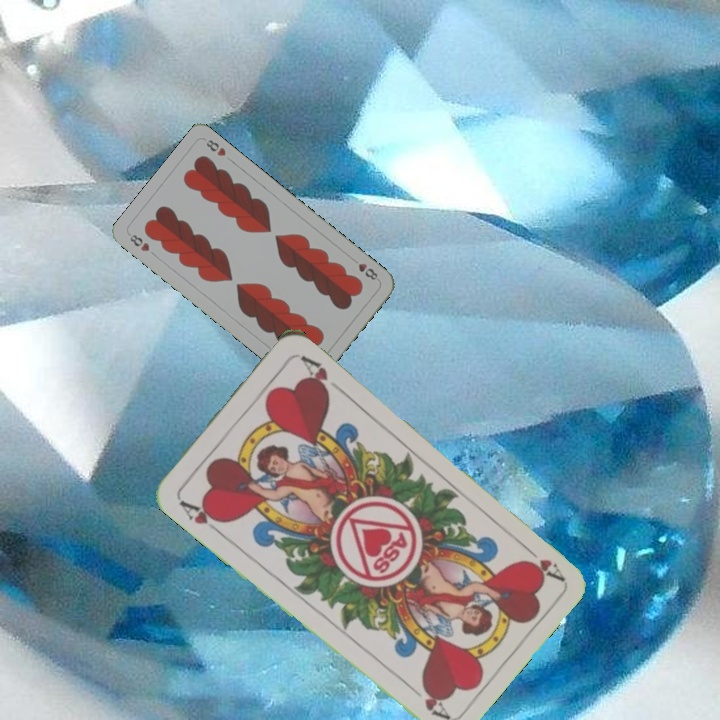H8: (354, 259, 382, 283), (125, 230, 152, 254)
HA: (516, 538, 566, 583), (175, 496, 229, 537)
